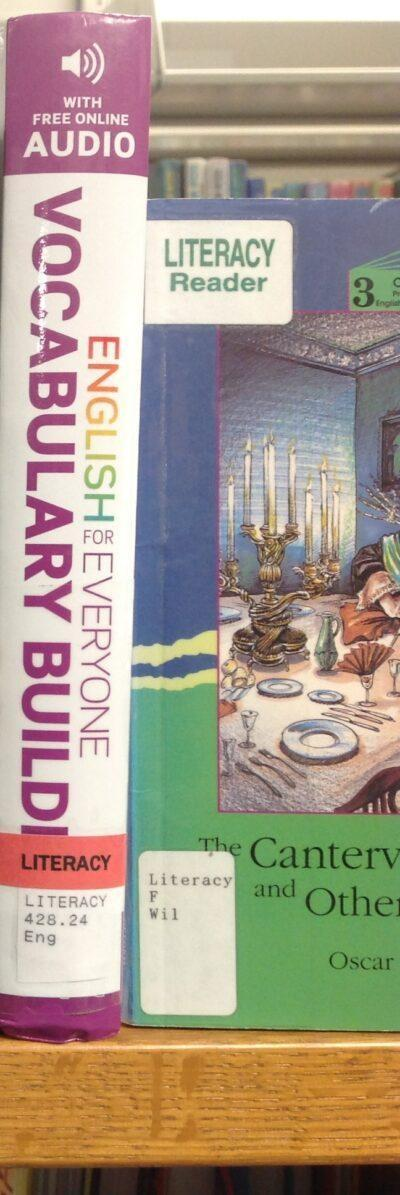call_number: (140, 850, 236, 1018), (16, 887, 124, 983)
